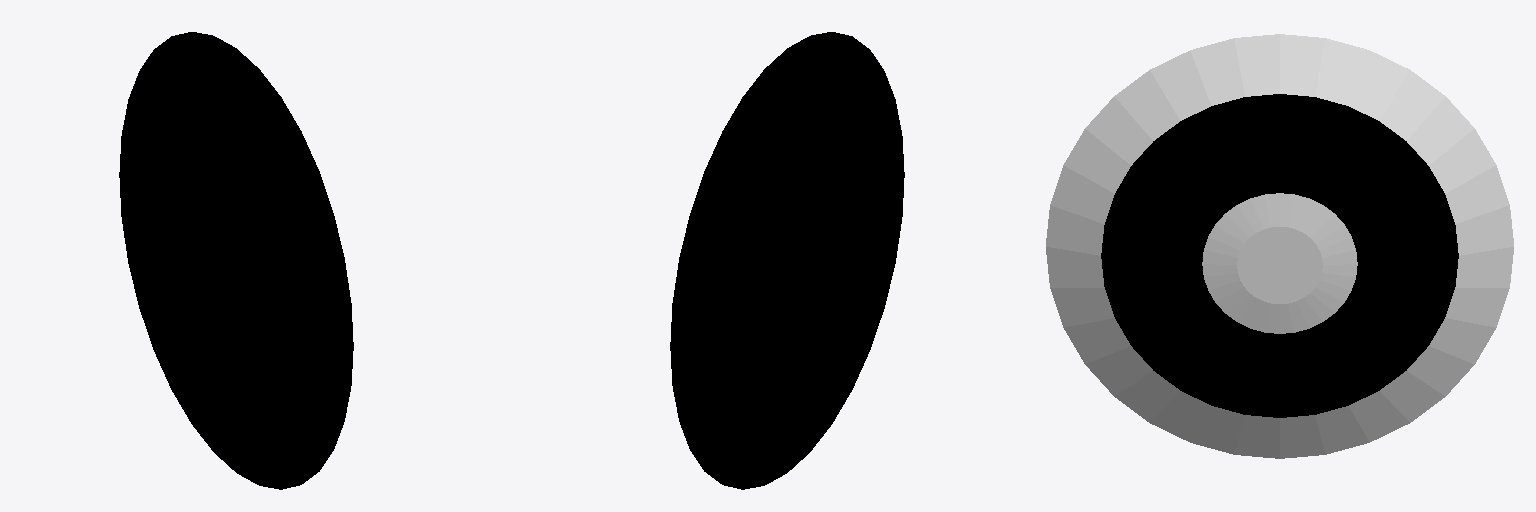
3 renders of one model, left to right at view 1: azimuth 30°, elevation 25°; view 2: azimuth 150°, elevation 25°; view 3: azimuth 270°, elevation 25°, orthographic.
Parts seen in each view (by area): view 1: Cylinder; view 2: Cylinder; view 3: Cylinder.
Boxes of the visible parts, x1,y1,x2,y2 form: Cylinder: [119, 32, 353, 489]; Cylinder: [670, 32, 904, 489]; Cylinder: [1046, 34, 1513, 458].
Bounding box in the file's own units: 0.1917 × 2 × 2.
1 materials, 1 textured.